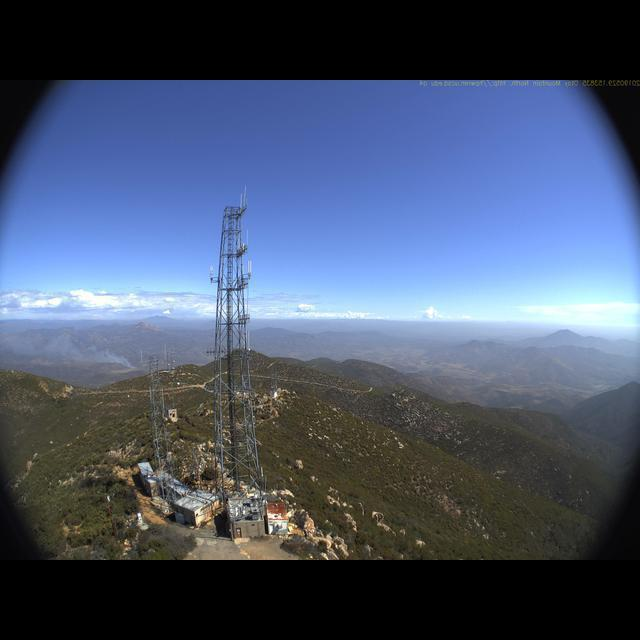Smoke: (4, 325, 143, 367)
